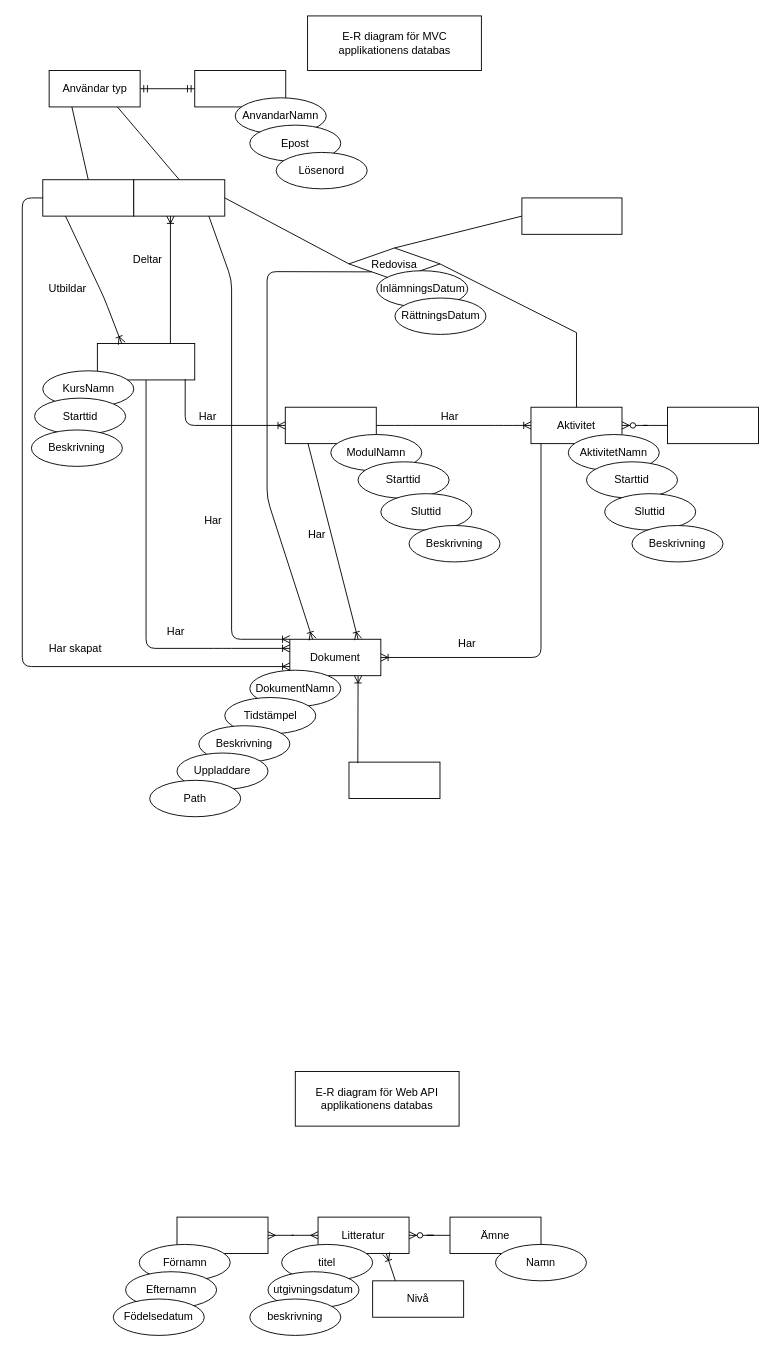
The diagram is 774 pixels wide and 1351 high, and some of its shapes have lost their labels. Here are the shapes that lost their labels. From the top down, the centre of each, then its label:
the point at 240,88: Användare
the point at 88,197: Lärare
the point at 179,197: Elev
the point at 571,215: RedovisningStatus
the point at 145,361: Kurs
the point at 330,425: Modul
the point at 712,425: Aktivitettyp
the point at 394,780: Dokumenttyp
the point at 222,1235: Författare
